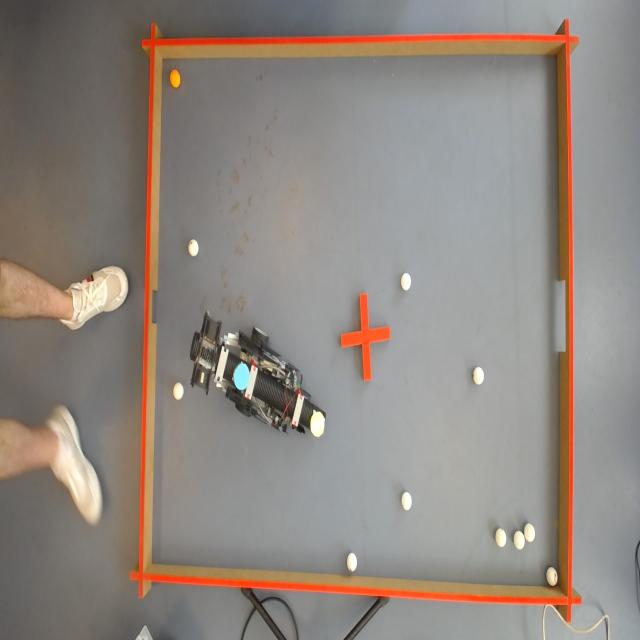orange: (170, 68, 181, 88)
robot: (188, 314, 326, 436)
robot-front: (310, 411, 325, 438)
robot-rear: (233, 361, 251, 392)
white: (345, 552, 360, 572), (496, 530, 508, 550), (523, 522, 535, 542), (546, 568, 559, 586), (173, 381, 184, 402), (400, 272, 412, 291), (514, 532, 526, 551), (402, 494, 413, 512), (188, 240, 200, 256), (474, 368, 484, 385)
